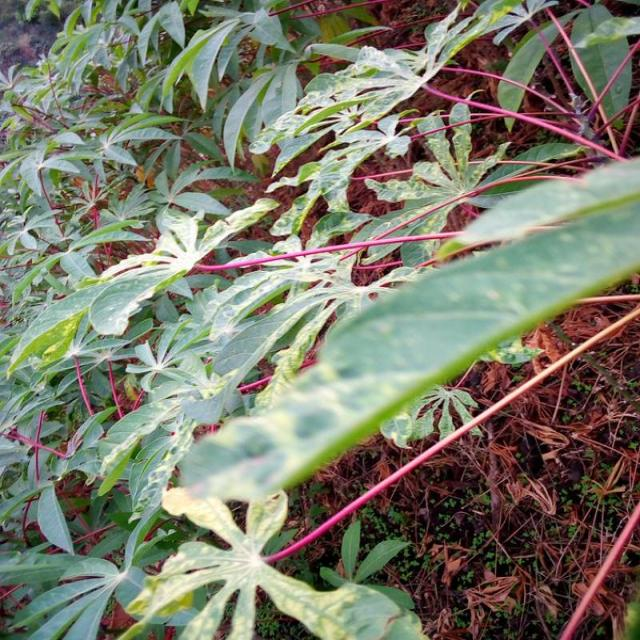cassava leaf: (176, 153, 638, 504)
